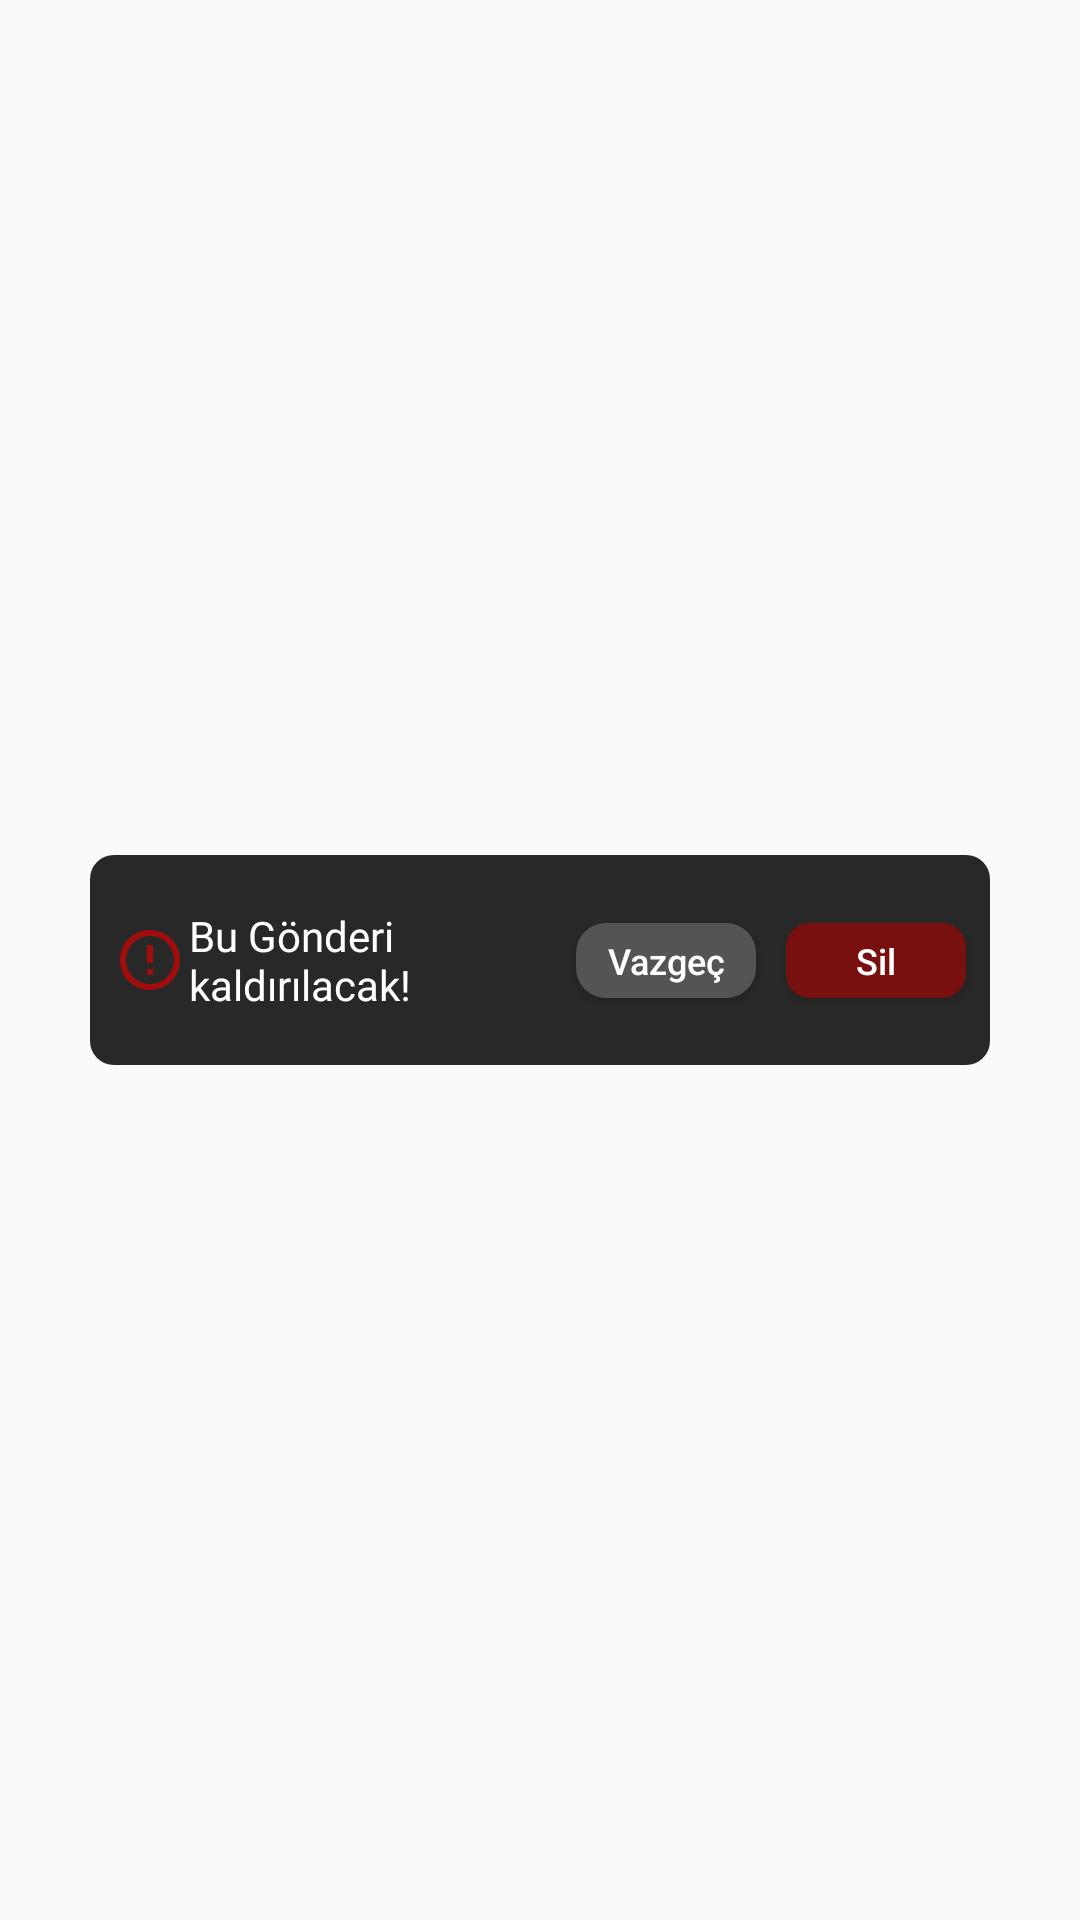

Icons on this 1080 × 1920 Android screen, each with its box as (x1=x1, y1=y1, x2=x2, y2=y2):
error: (x1=120, y1=930, x2=180, y2=990)
